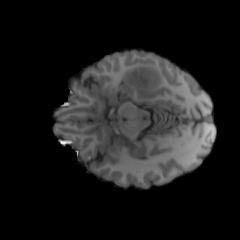glioma: (123, 65, 163, 96)
